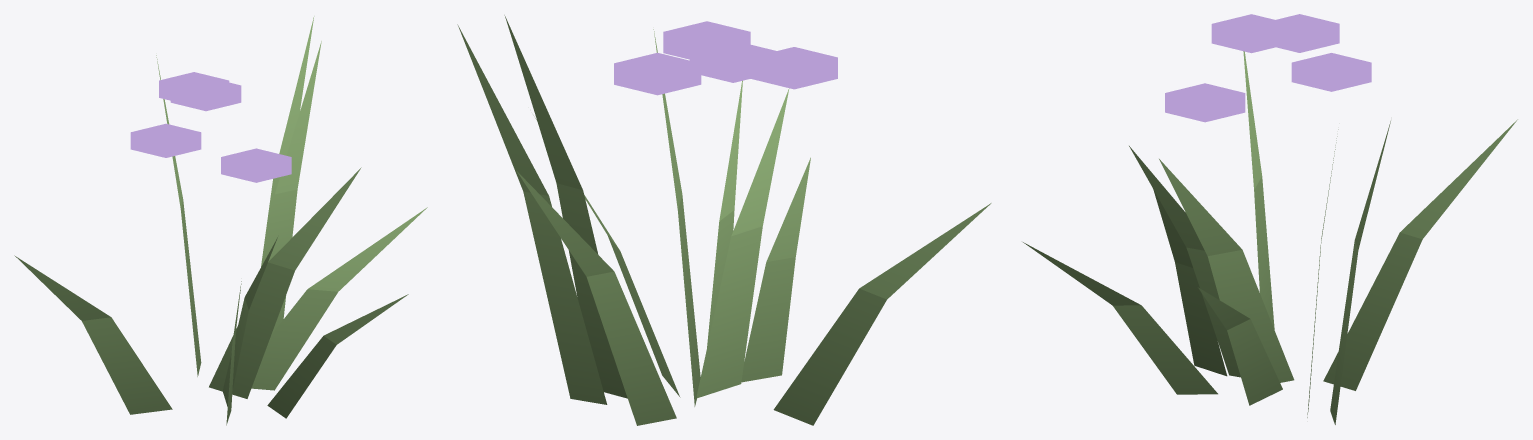
File: flower_purple.glb
3 views of the same model, side by side, from view 1: azimuth 30°, elevation 25°; view 2: azimuth 150°, elevation 25°; view 3: azimuth 270°, elevation 25° (orthographic). The views are drawn at different scales.
Parts seen in each view (by area): view 1: flower_purple; view 2: flower_purple; view 3: flower_purple.
Part boxes in pixels (x1=…): flower_purple: x1=14, y1=16, x2=427, y2=425; flower_purple: x1=457, y1=15, x2=991, y2=425; flower_purple: x1=1023, y1=14, x2=1517, y2=424.
Bounding box in the file's own units: 0.5593 × 0.4133 × 0.5376.
